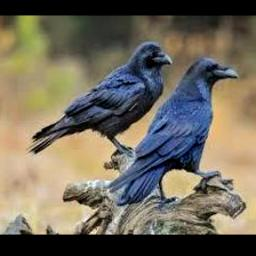Crow: (107, 57, 240, 210), (26, 40, 173, 158)
